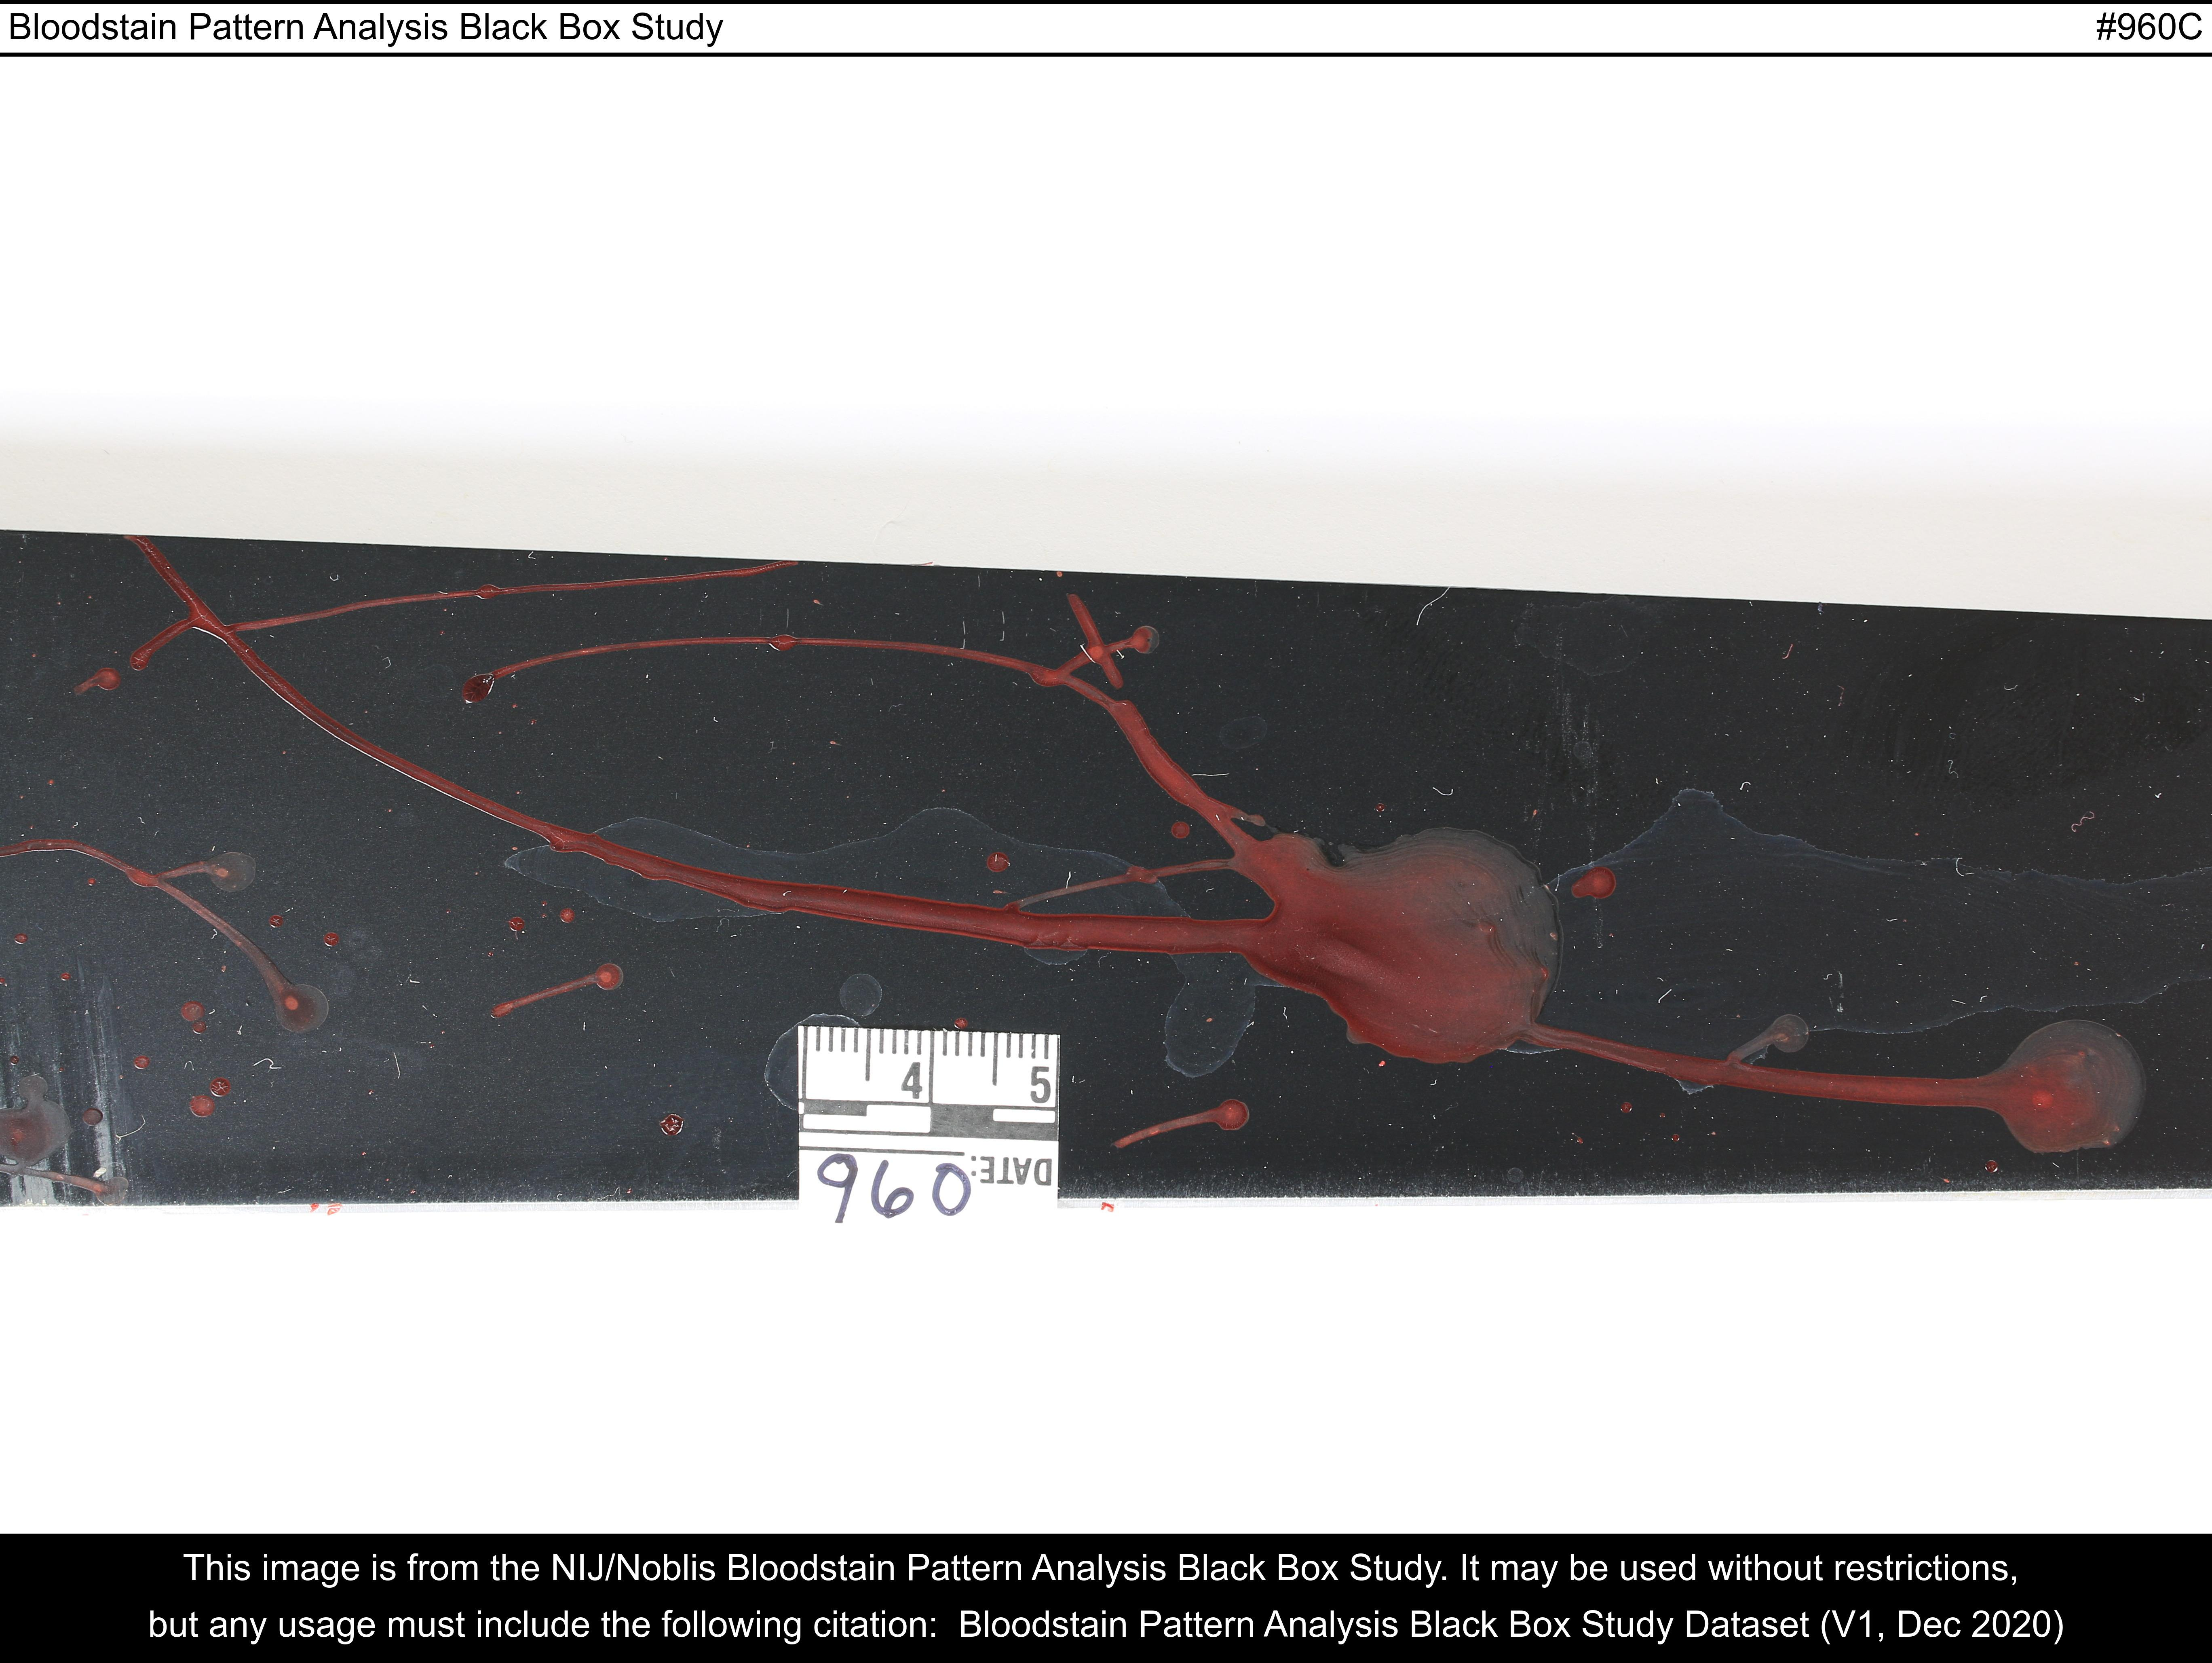Transfer: (9, 538, 2193, 1190)
